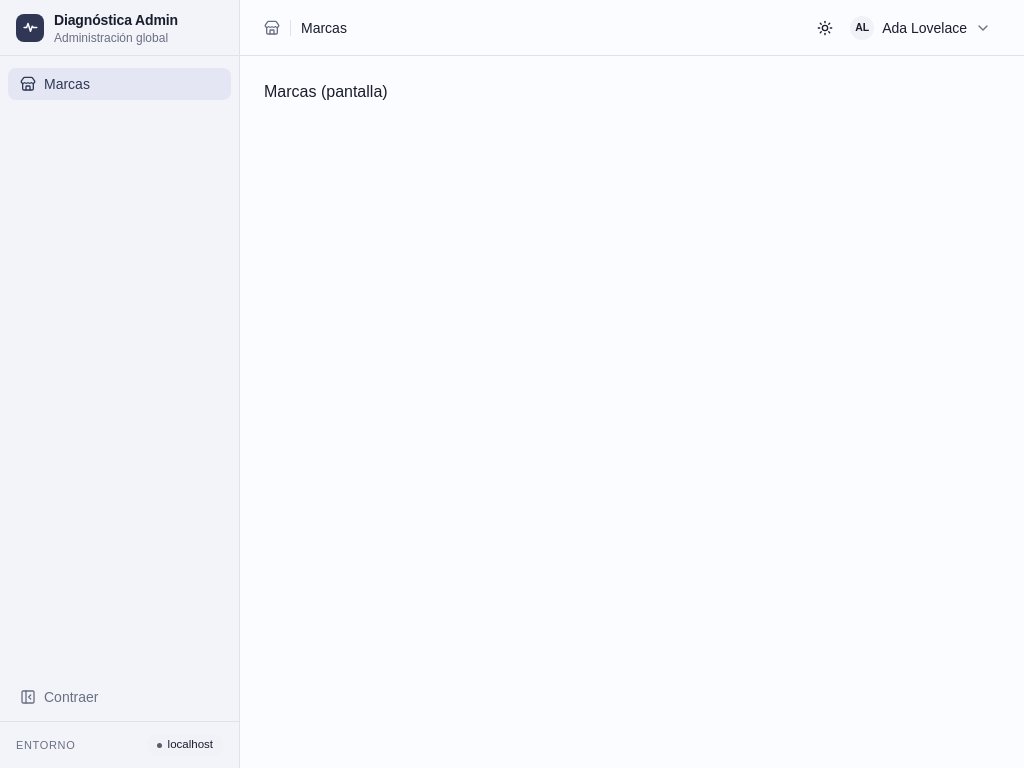
AppShell › collapses the sidebar to an icon rail and expands it again
The image size is (1024, 768).
Click the button with aria-label "Contraer menú".
click(120, 697)  # box [8, 681, 231, 713]
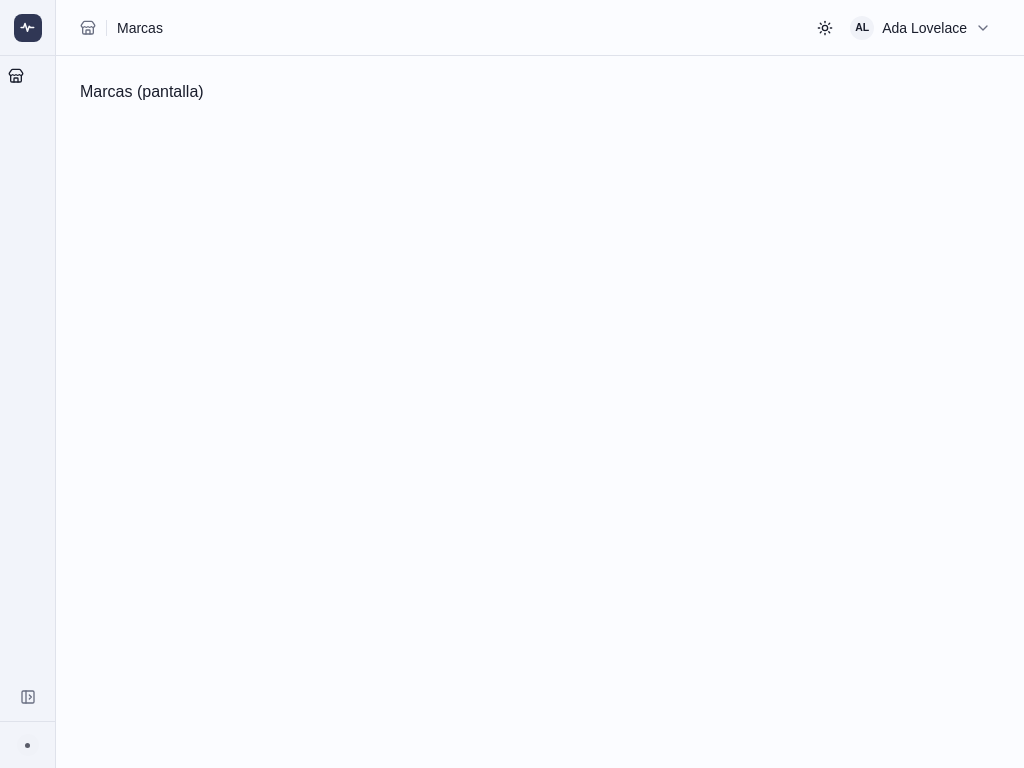
Expected: the link named "Marcas" is shown, [8, 68, 47, 84]
Click the button named "Expandir menú".
click(28, 697)  # box [8, 681, 47, 713]
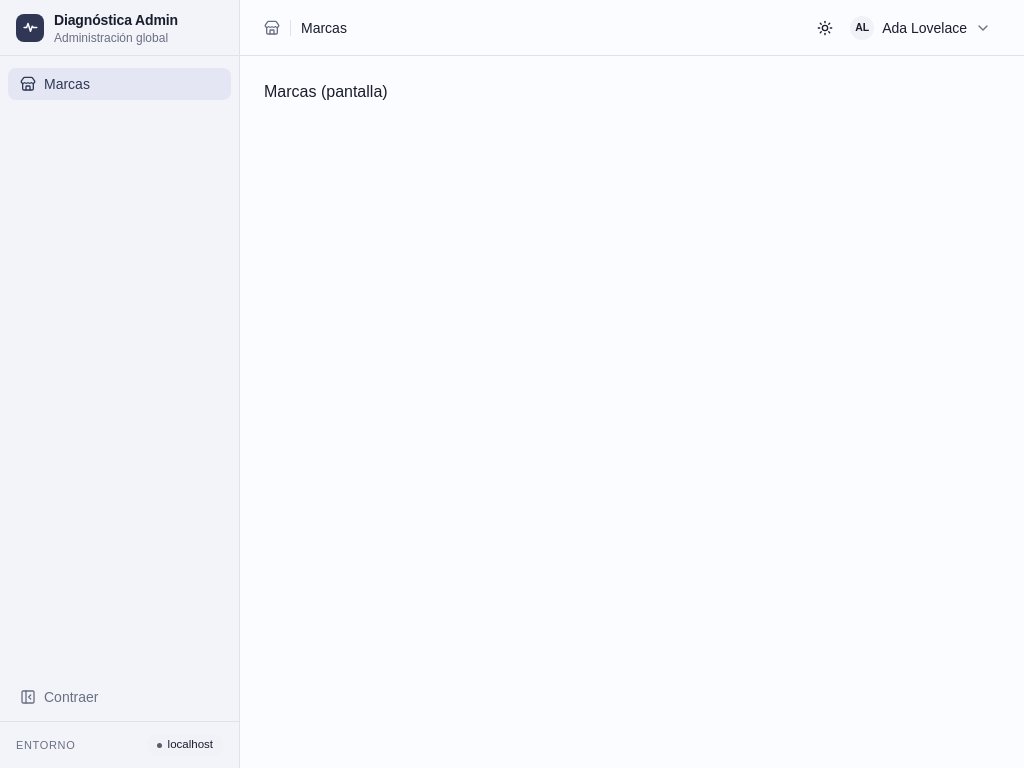
Expected: the element with id "app-sidebar" does not have attribute data-collapsed, [0, 0, 240, 767]
